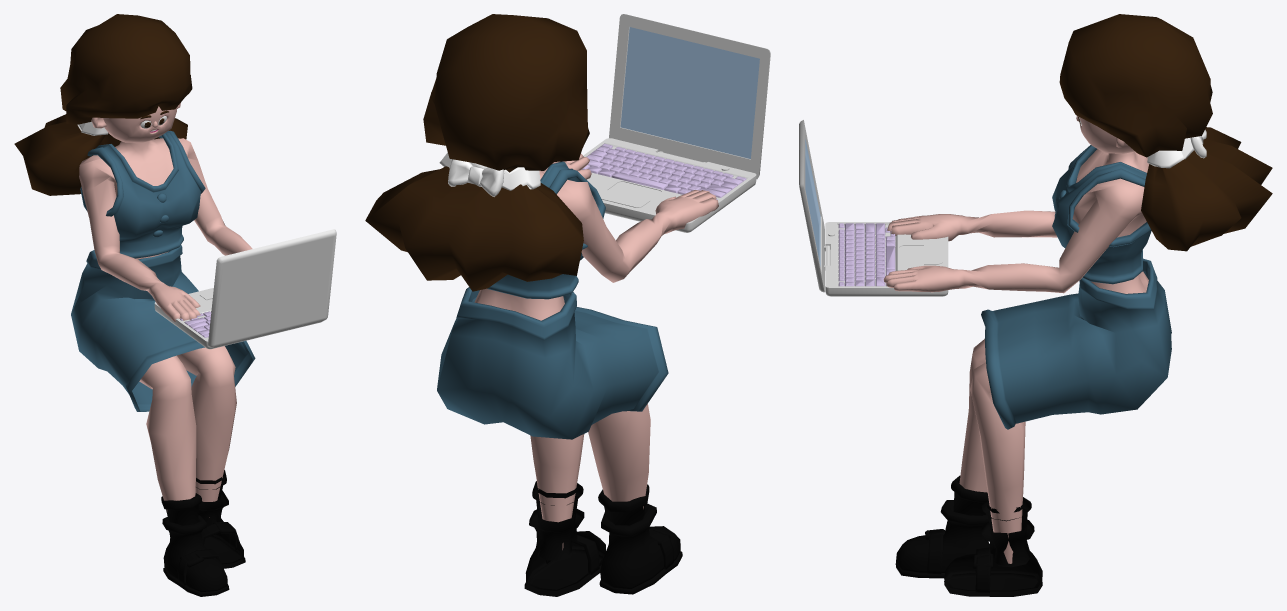
File: girl_sitting.fbx
3 renders of one model, left to right at view 1: azimuth 30°, elevation 25°; view 2: azimuth 150°, elevation 25°; view 3: azimuth 270°, elevation 25°, orthographic. The views are drawn at different scales.
Parts seen in each view (by area): view 1: Char_Body, Long Hair, Knit Skirt, iBook_lid, Sleeveless Knitwear, Char_Boot R, Char_Boot R.001, Char_Tooth On, iBook_bottom; view 2: Long Hair, Knit Skirt, iBook_lid, Char_Body, Char_Boot R, Char_Boot R.001, iBook_keyboard, iBook_bottom, Sleeveless Knitwear; view 3: Long Hair, Char_Body, Knit Skirt, Char_Boot R.001, Sleeveless Knitwear, Char_Boot R, iBook_bottom, iBook_keyboard, iBook_lid, Char_Tooth On.
Part boxes in pixels (x1,y1,x2,y2): Char_Body: [79, 138, 252, 517]; Long Hair: [14, 14, 192, 195]; Knit Skirt: [71, 245, 255, 411]; iBook_lid: [208, 229, 336, 347]; Sleeveless Knitwear: [80, 130, 205, 258]; Char_Boot R: [161, 493, 229, 596]; Char_Boot R.001: [196, 470, 245, 568]; Char_Tooth On: [91, 103, 180, 142]; iBook_bottom: [154, 288, 323, 349]; Long Hair: [365, 14, 589, 291]; Knit Skirt: [437, 287, 668, 439]; iBook_lid: [609, 14, 770, 179]; Char_Body: [474, 153, 718, 549]; Char_Boot R: [598, 484, 682, 594]; Char_Boot R.001: [524, 481, 605, 596]; iBook_keyboard: [581, 143, 746, 199]; iBook_bottom: [583, 138, 756, 232]; Sleeveless Knitwear: [487, 161, 605, 299]; Long Hair: [1059, 14, 1272, 251]; Char_Body: [883, 149, 1149, 563]; Knit Skirt: [981, 258, 1171, 429]; Char_Boot R.001: [944, 497, 1042, 596]; Sleeveless Knitwear: [1052, 145, 1151, 284]; Char_Boot R: [895, 475, 989, 578]; iBook_bottom: [825, 222, 948, 296]; iBook_keyboard: [838, 223, 895, 286]; iBook_lid: [799, 120, 830, 292]; Char_Tooth On: [1076, 116, 1134, 153].
Size of the model in its own units: 50.94 by 152 by 116.
